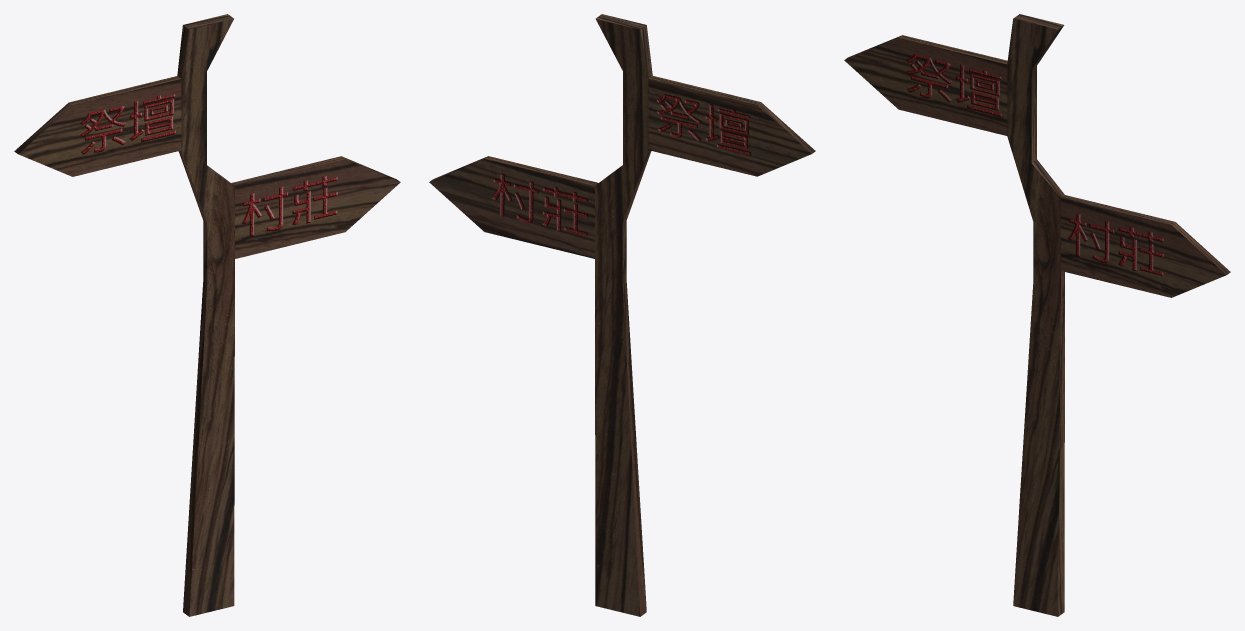
The model's file is WoodSigns.FBX.
3 views of the same model, side by side, from view 1: azimuth 30°, elevation 25°; view 2: azimuth 150°, elevation 25°; view 3: azimuth 330°, elevation 25° (orthographic).
Visible parts, largest first — view 1: WoodSigns; view 2: WoodSigns; view 3: WoodSigns.
Part boxes in pixels (<box>): WoodSigns: <box>14,14,400,616</box>; WoodSigns: <box>429,14,815,616</box>; WoodSigns: <box>844,14,1230,616</box>.
Bounding box in the file's own units: 171 × 250 × 5.
Materials: 1 (1 with a texture image).
